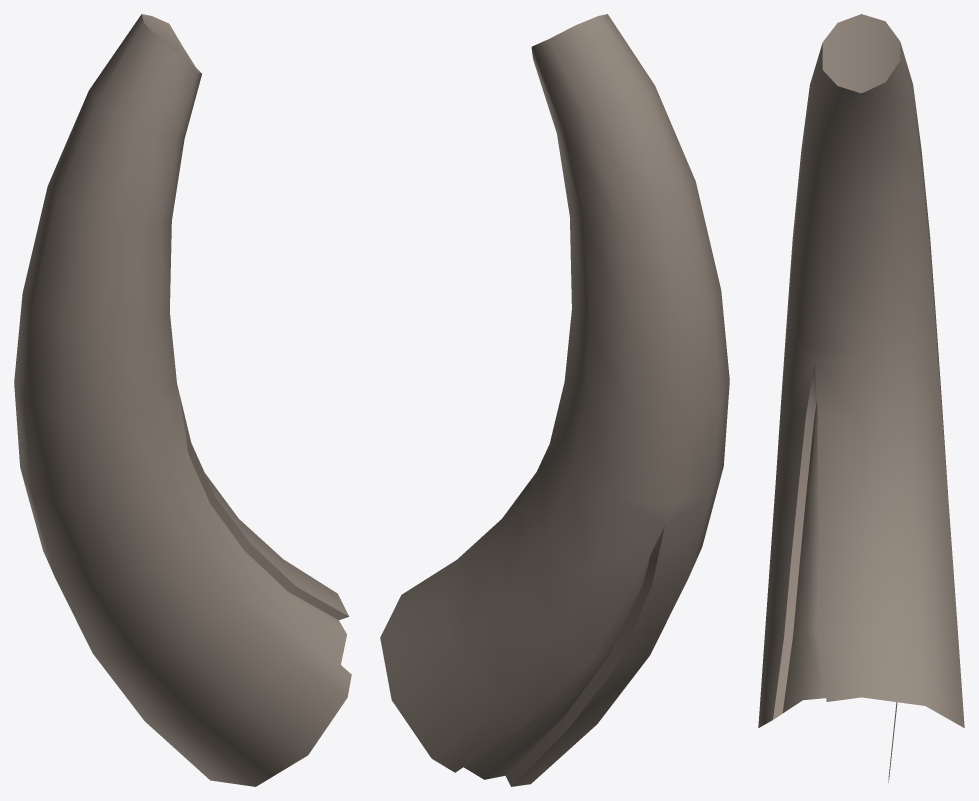
File: horn.glb
The picture shows the model from 3 angles, left to right: view 1: azimuth 30°, elevation 25°; view 2: azimuth 150°, elevation 25°; view 3: azimuth 270°, elevation 25°; orthographic projection. The views are drawn at different scales.
Parts seen in each view (by area): view 1: Bone_004; view 2: Bone_004; view 3: Bone_004.
Boxes of the visible parts, left/top/right/bottom form: Bone_004: left=14, top=14, right=351, bottom=786; Bone_004: left=380, top=14, right=729, bottom=786; Bone_004: left=758, top=14, right=964, bottom=782.
Bounding box in the file's own units: 2.93 × 6.92 × 1.74.
